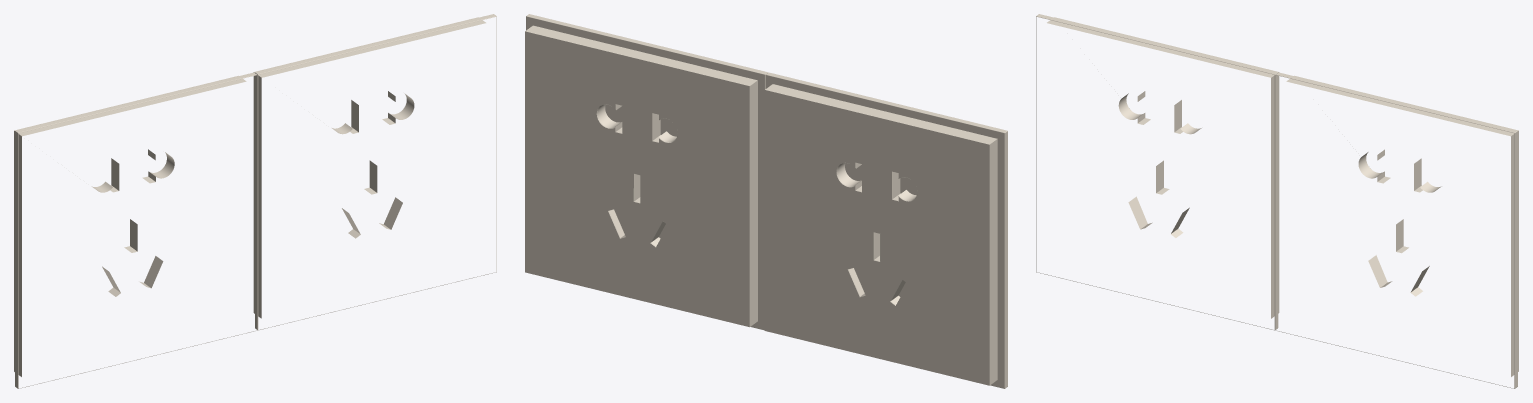
File: power_core.glb
3 views of the same model, side by side, from view 1: azimuth 30°, elevation 25°; view 2: azimuth 150°, elevation 25°; view 3: azimuth 330°, elevation 25° (orthographic).
Parts seen in each view (by area): view 1: power; view 2: power; view 3: power.
Boxes of the visible parts, bbox=[...] form: power: bbox=[14, 14, 496, 388]; power: bbox=[525, 14, 1007, 388]; power: bbox=[1036, 14, 1518, 388].
Bounding box in the file's own units: 0.1722 × 0.088 × 0.00704.
